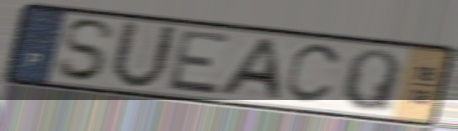A: (213, 37, 285, 103)
C: (282, 42, 346, 107)
E: (164, 28, 235, 97)
Q: (339, 47, 403, 116)
S: (54, 17, 118, 84)
U: (107, 18, 180, 92)
